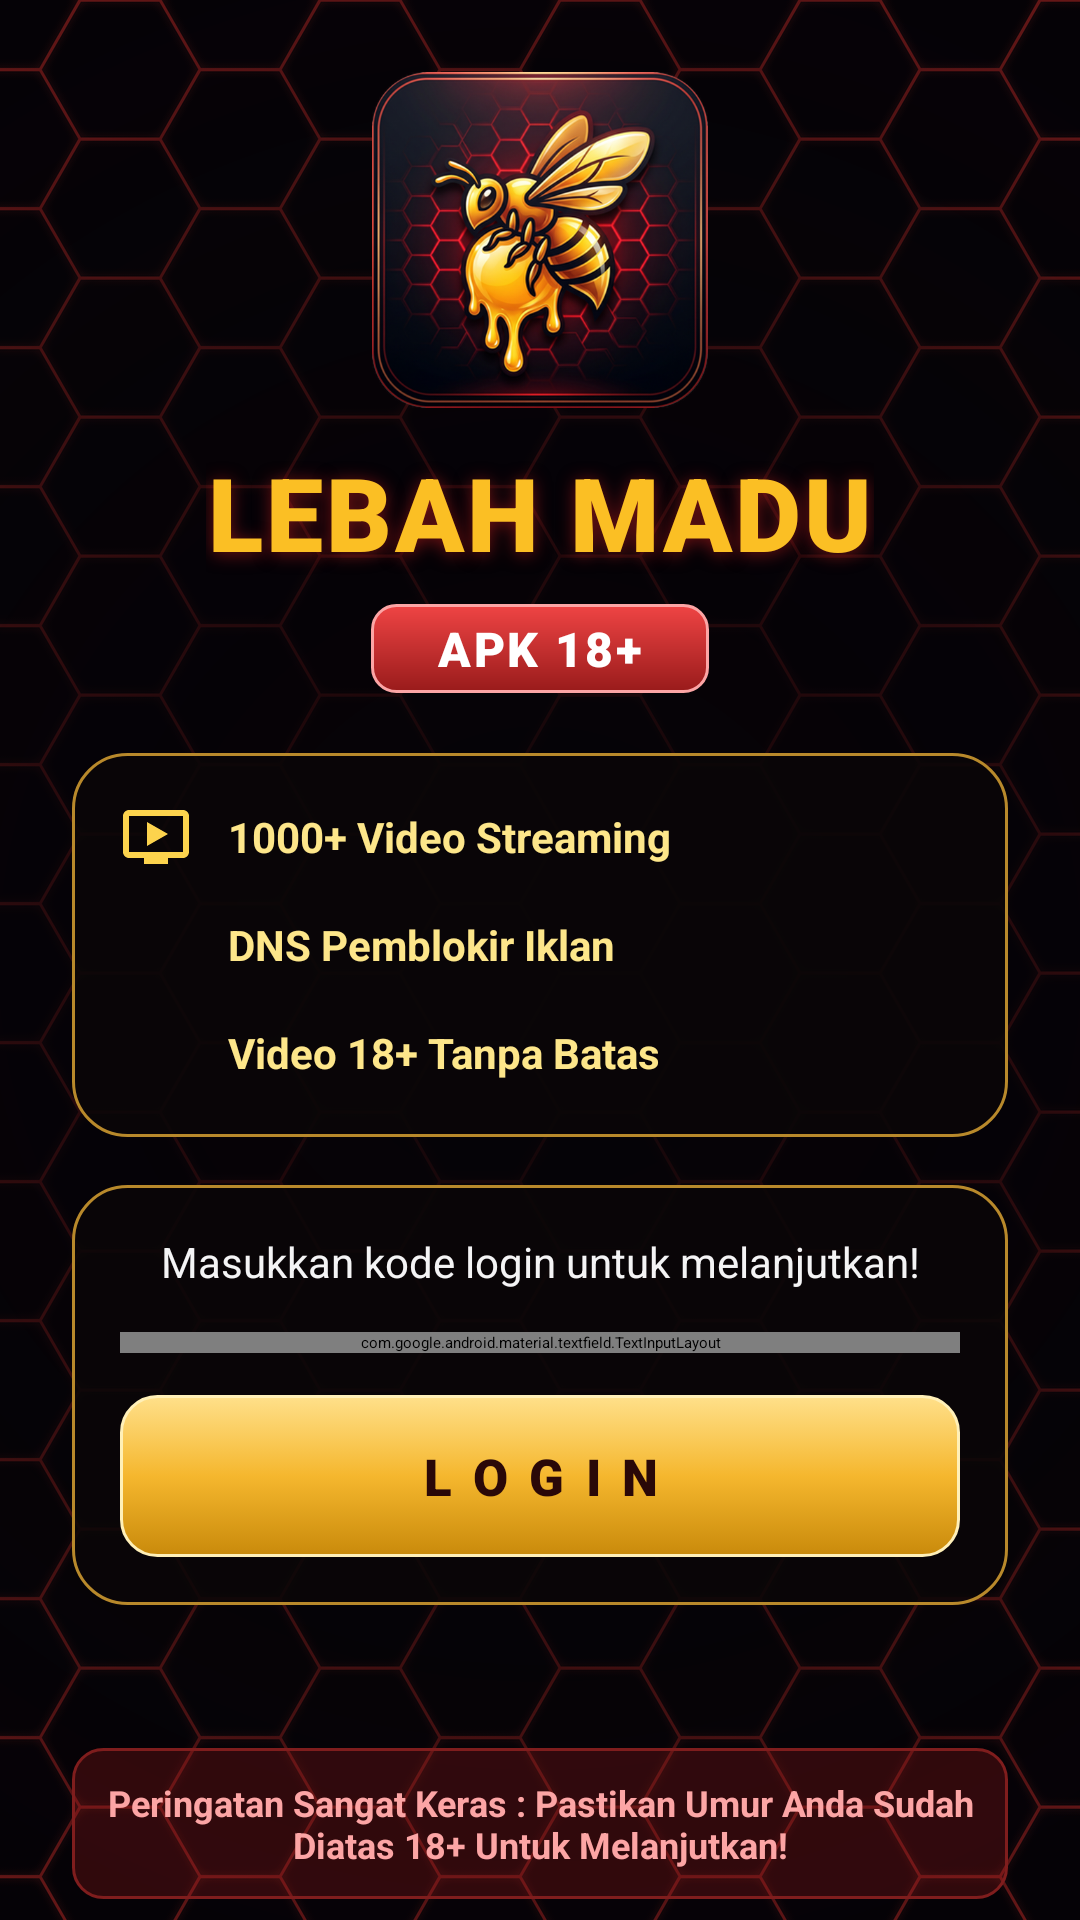

Screen size 1080 x 1920. Icon name, then its center in pixels as point (x, y):
feature video: point (156, 837)
